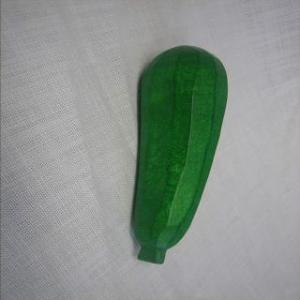zucchini: (113, 45, 240, 268)
